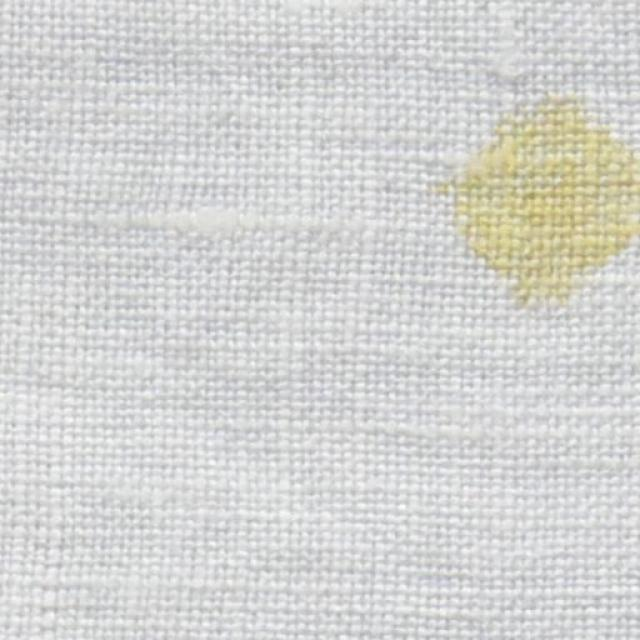Stain: (446, 96, 639, 318)
